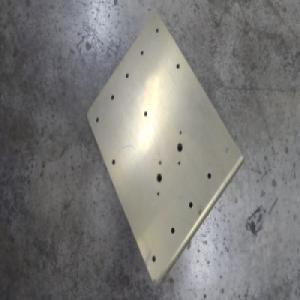MetalSheet: (85, 11, 244, 287)
